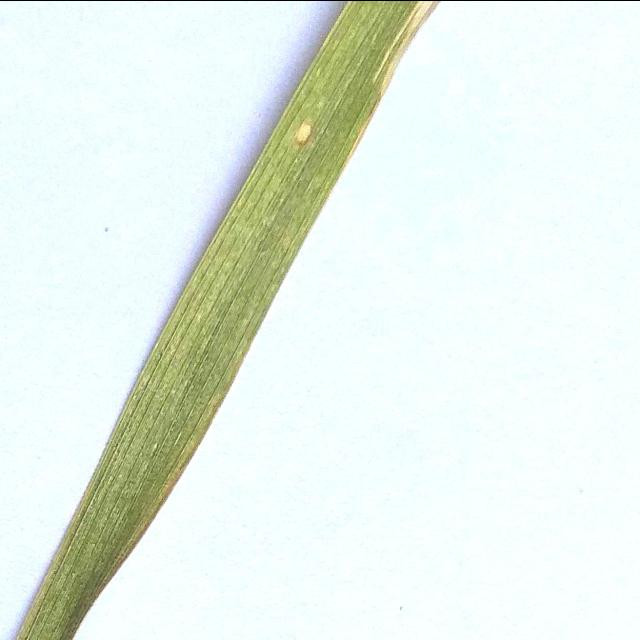Leaf_Blast: (292, 116, 332, 156)
